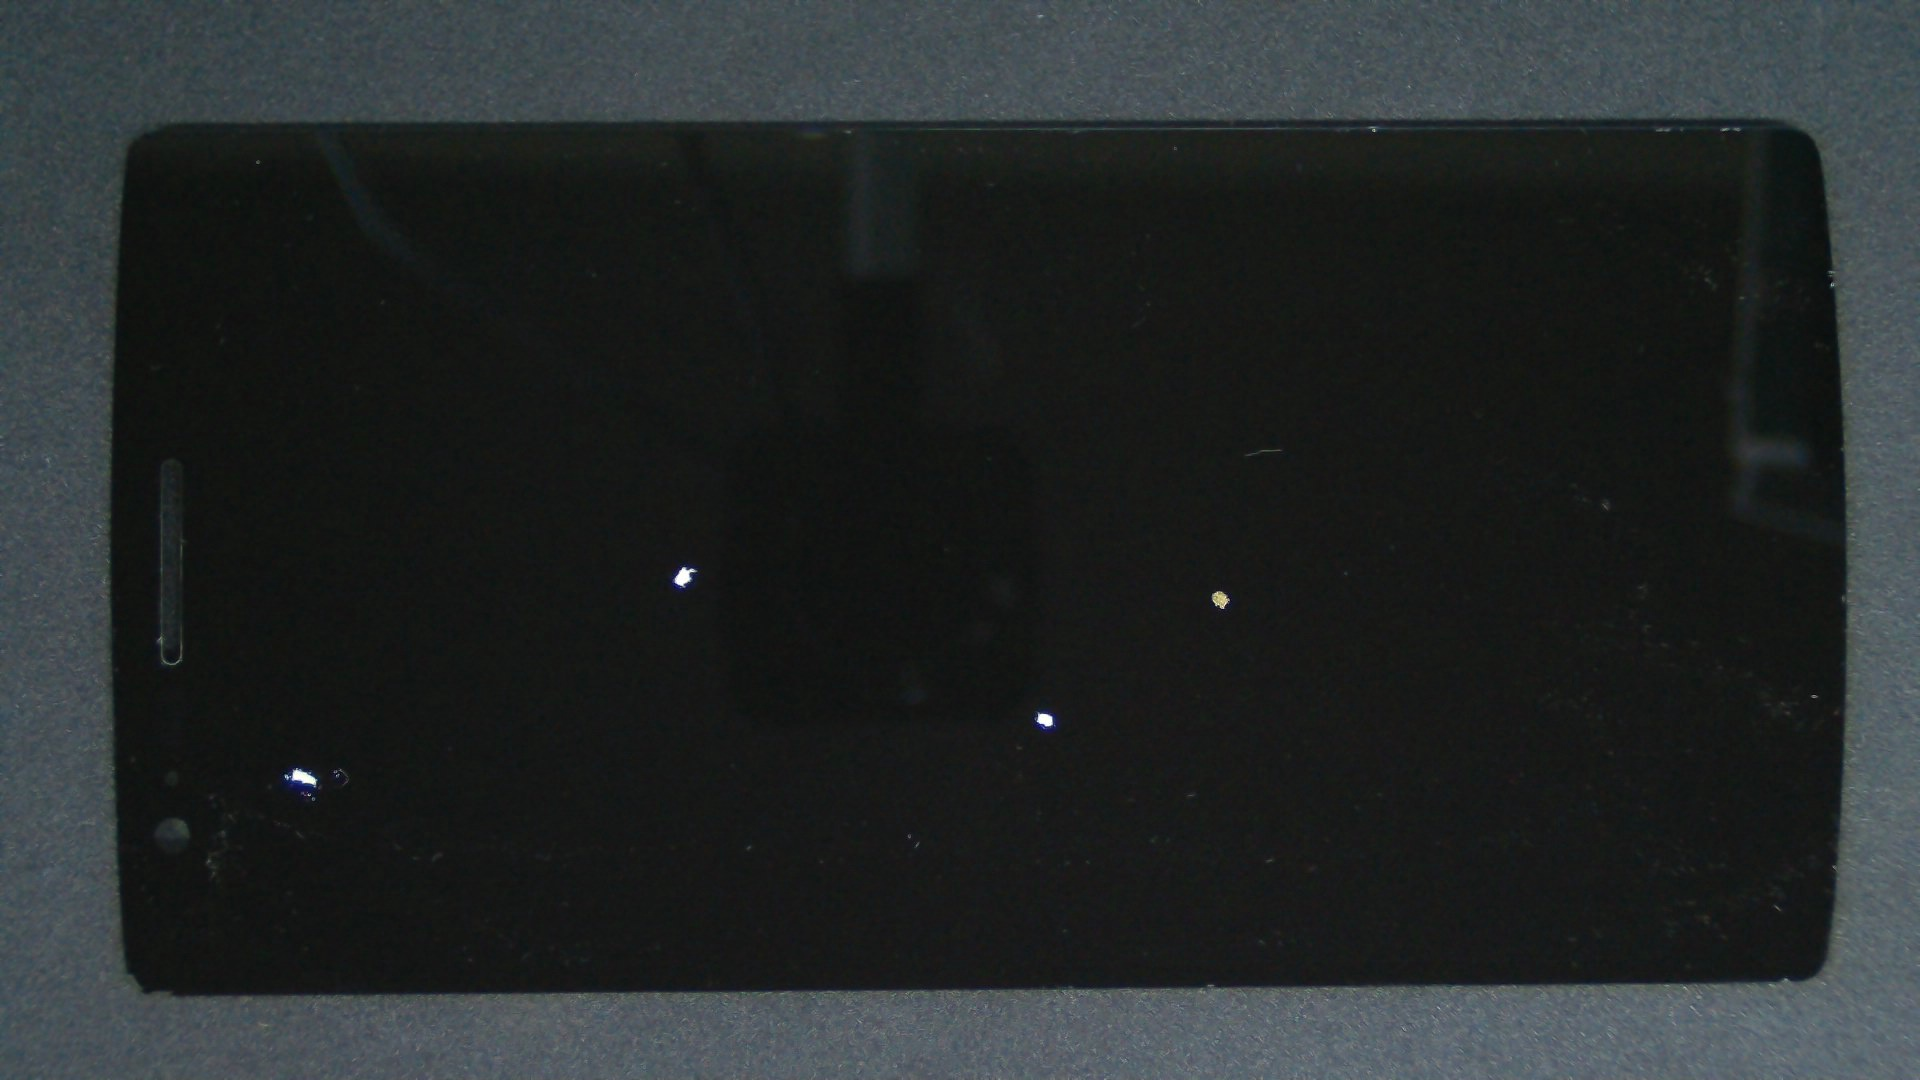oil: (524, 353, 1571, 1064), (609, 294, 1826, 882), (343, 281, 1019, 851), (148, 381, 438, 1080)
